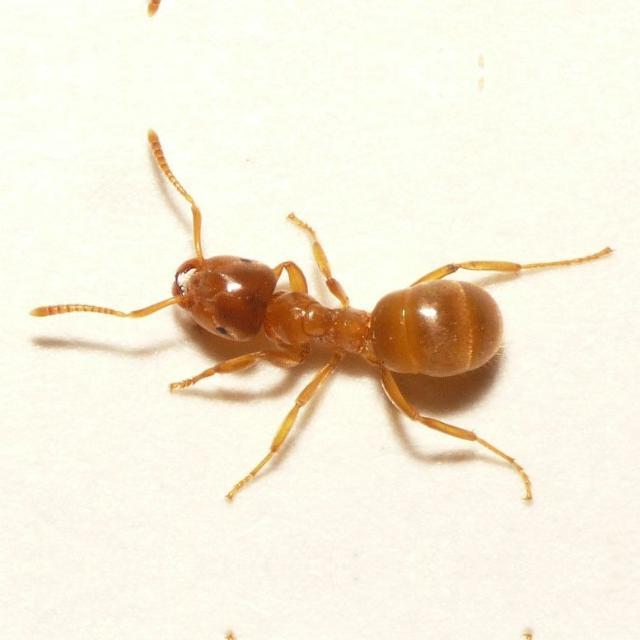Lasius: (94, 161, 568, 445)
